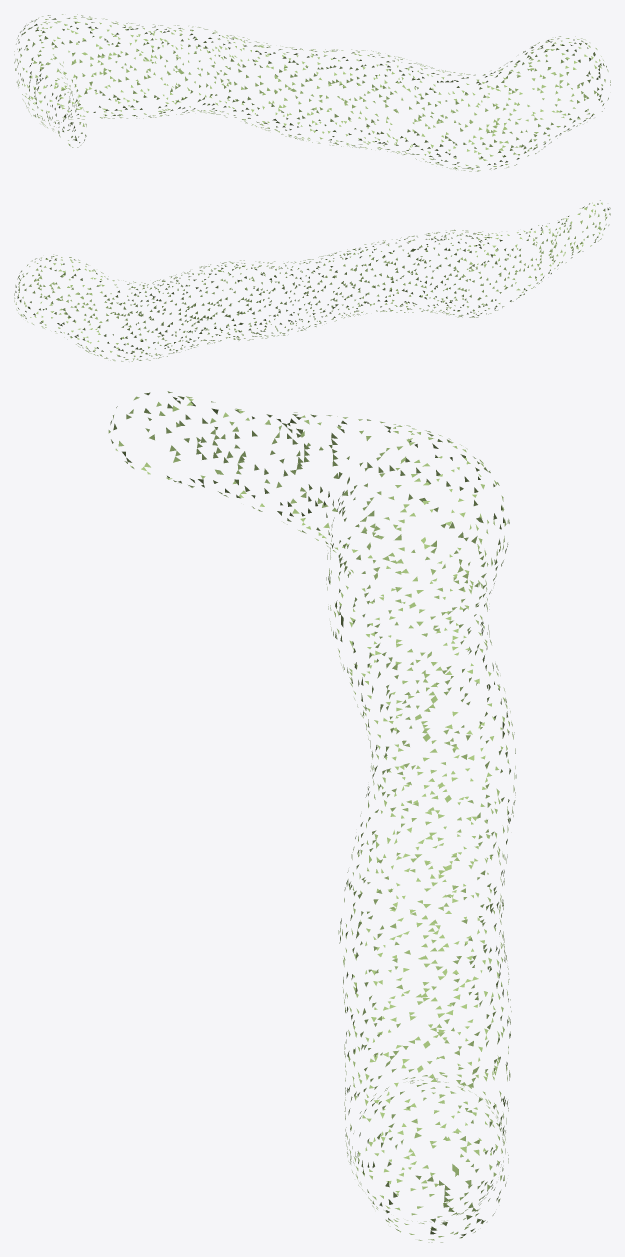
File: morph_012.glb
3 views of the same model, one above another, from view 1: azimuth 30°, elevation 25°; view 2: azimuth 150°, elevation 25°; view 3: azimuth 270°, elevation 25° (orthographic). The views are drawn at different scales.
Bounding box in the file's own units: 125 × 48.35 × 42.9.
